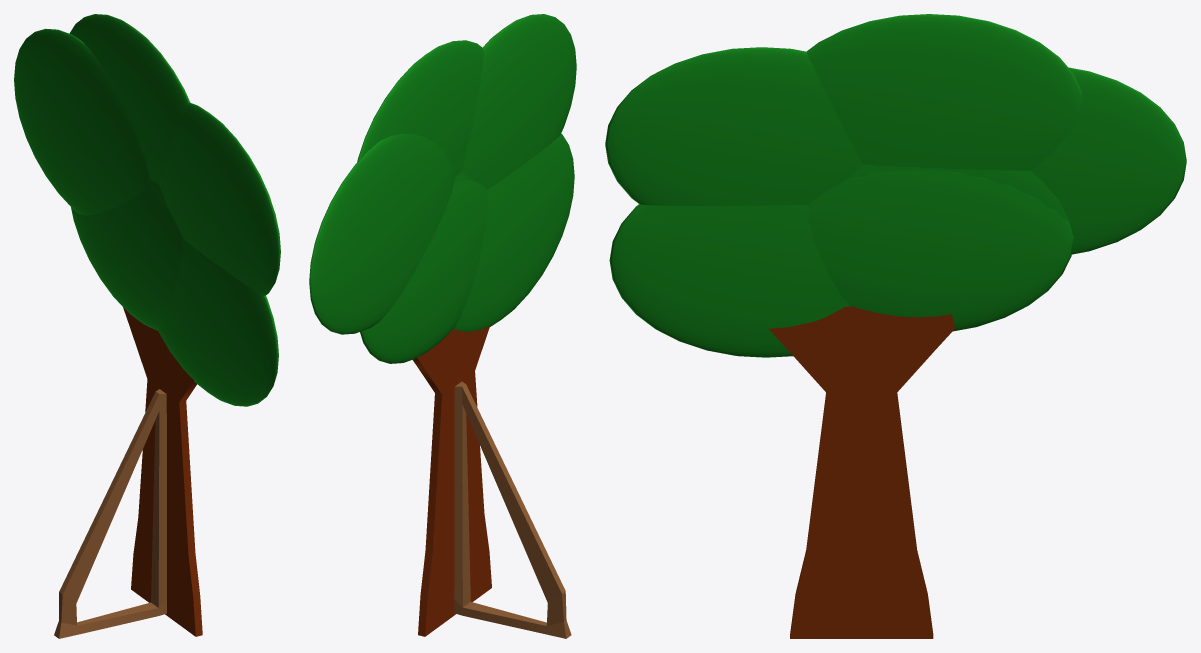
Rendered from Tree_Board.FBX.
3 views of the same model, side by side, from view 1: azimuth 30°, elevation 25°; view 2: azimuth 150°, elevation 25°; view 3: azimuth 270°, elevation 25° (orthographic). The views are drawn at different scales.
Visible parts, largest first — view 1: Sphere018, Sphere015, Sphere013, Box026, Sphere014, Sphere016, Back_Stand002; view 2: Sphere018, Sphere015, Box026, Sphere013, Sphere014, Back_Stand002, Sphere016; view 3: Box026, Sphere016, Sphere015, Sphere014, Sphere013, Sphere018, Sphere017.
Boxes of the visible parts, box(x1,y1,x2,y2) form: Sphere018: box(14, 28, 150, 215); Sphere015: box(159, 102, 280, 295); Sphere013: box(158, 239, 278, 406); Box026: box(123, 307, 202, 636); Sphere014: box(71, 185, 183, 330); Sphere016: box(69, 14, 190, 184); Back_Stand002: box(54, 389, 166, 638); Sphere018: box(309, 133, 454, 334); Sphere015: box(462, 14, 576, 189); Box026: box(413, 326, 491, 636); Sphere013: box(453, 133, 574, 332); Sphere014: box(360, 179, 487, 363); Back_Stand002: box(454, 381, 571, 638); Sphere016: box(357, 40, 483, 177); Box026: box(768, 306, 954, 638); Sphere016: box(806, 14, 1081, 170); Sphere015: box(605, 47, 862, 205); Sphere014: box(808, 170, 1073, 331); Sphere013: box(609, 204, 849, 357); Sphere018: box(1030, 67, 1186, 254); Sphere017: box(844, 164, 1068, 221).
Size of the model in its own units: 22.24 by 102 by 86.19.
